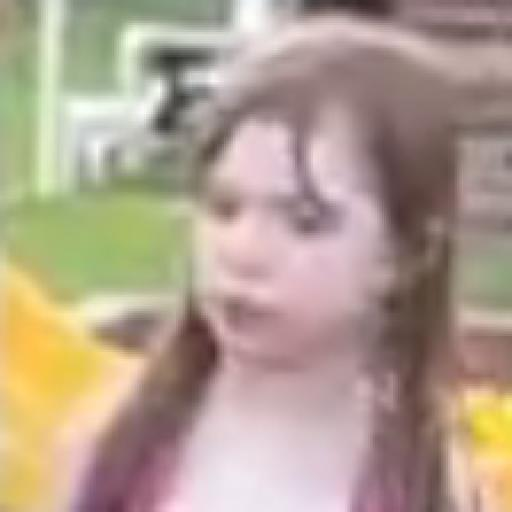Autism: (164, 62, 481, 440)
